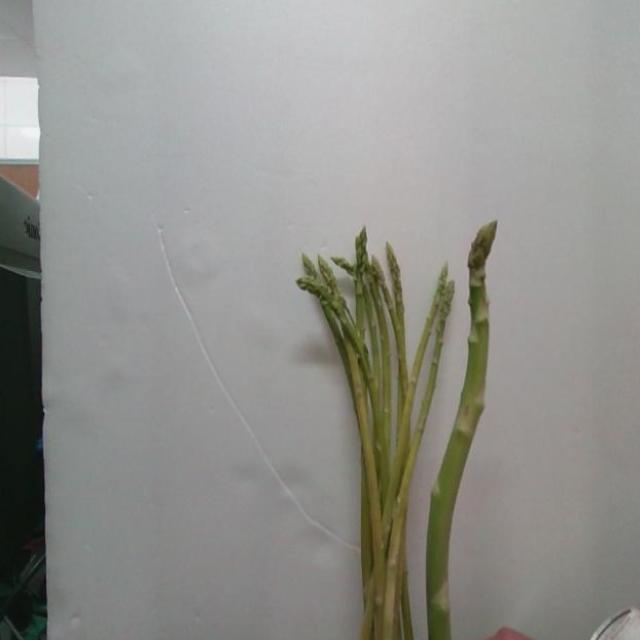aspargus: (426, 223, 499, 640)
